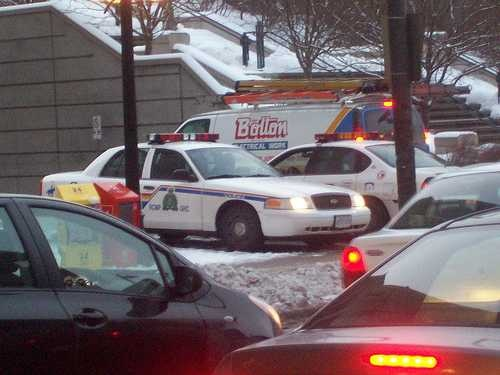Police Car: (58, 118, 359, 251), (274, 125, 430, 208)
